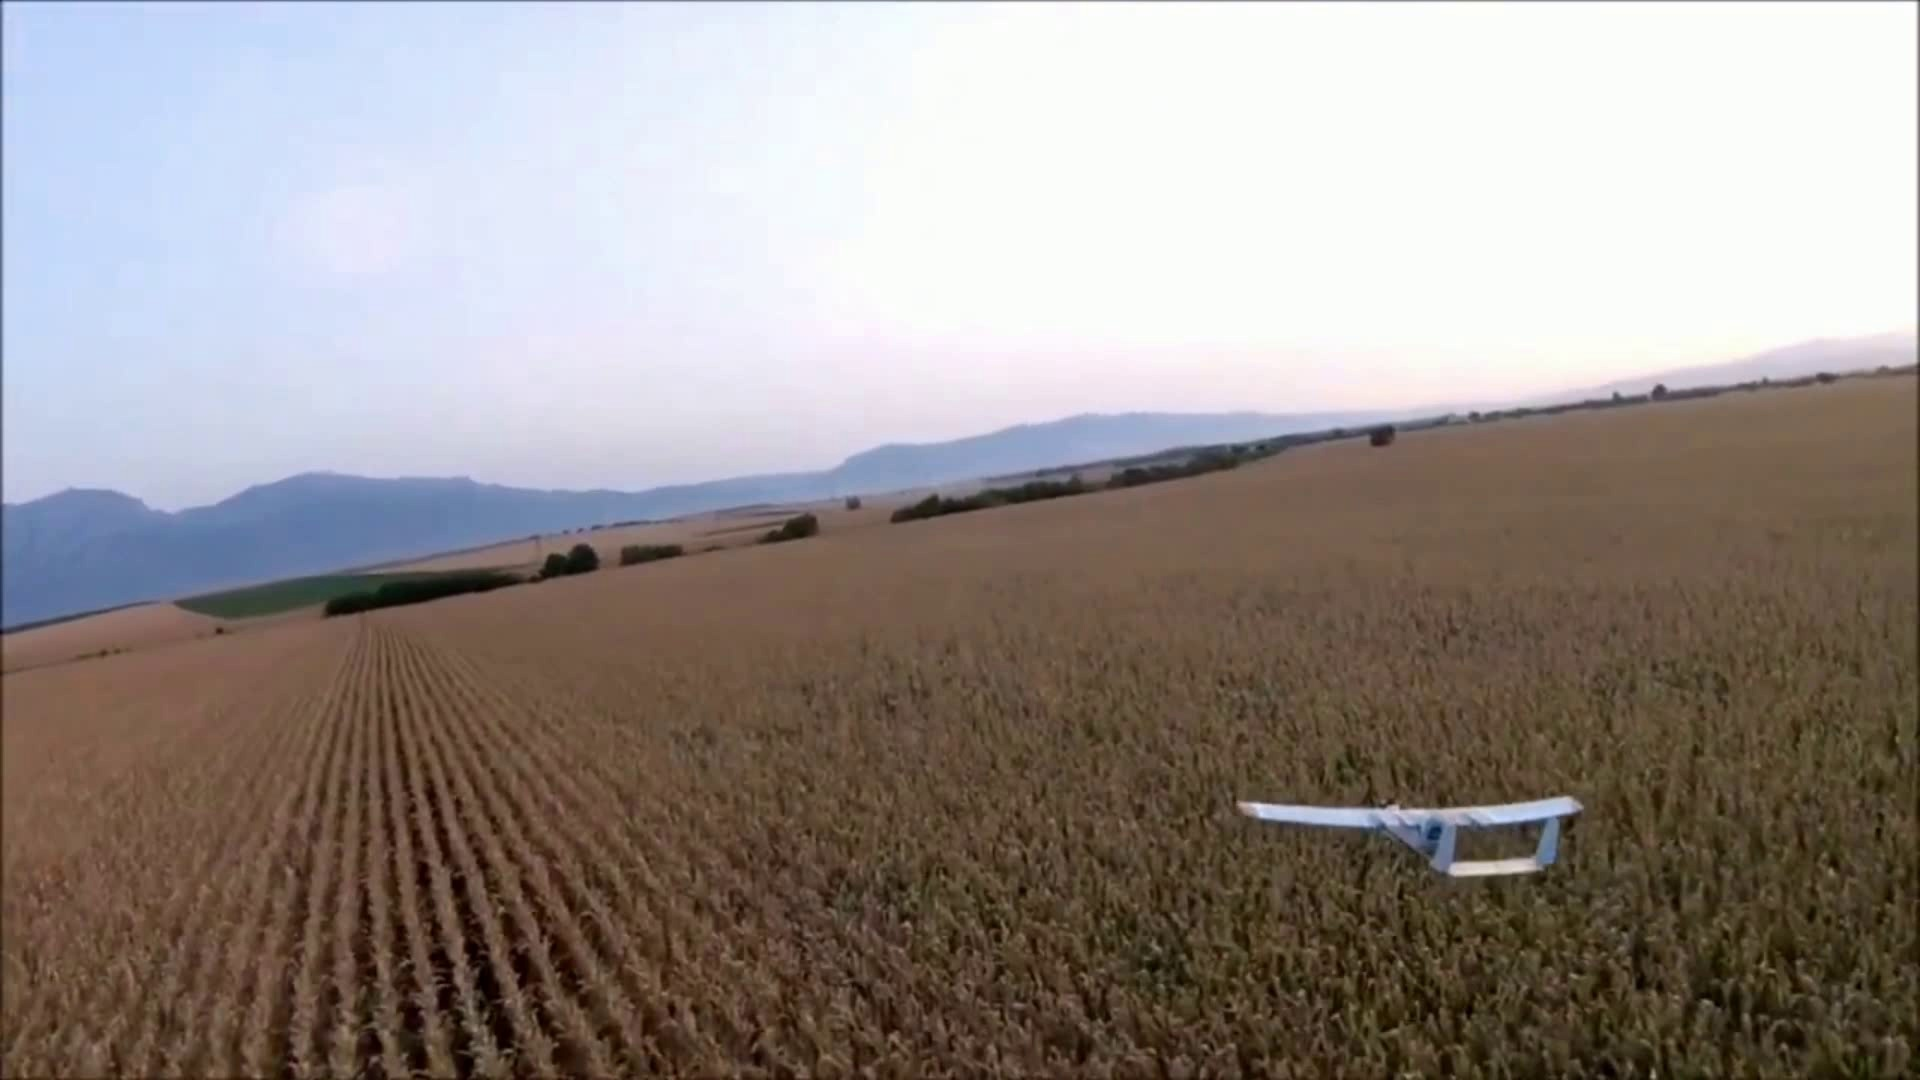airplane: (1237, 796, 1582, 882)
